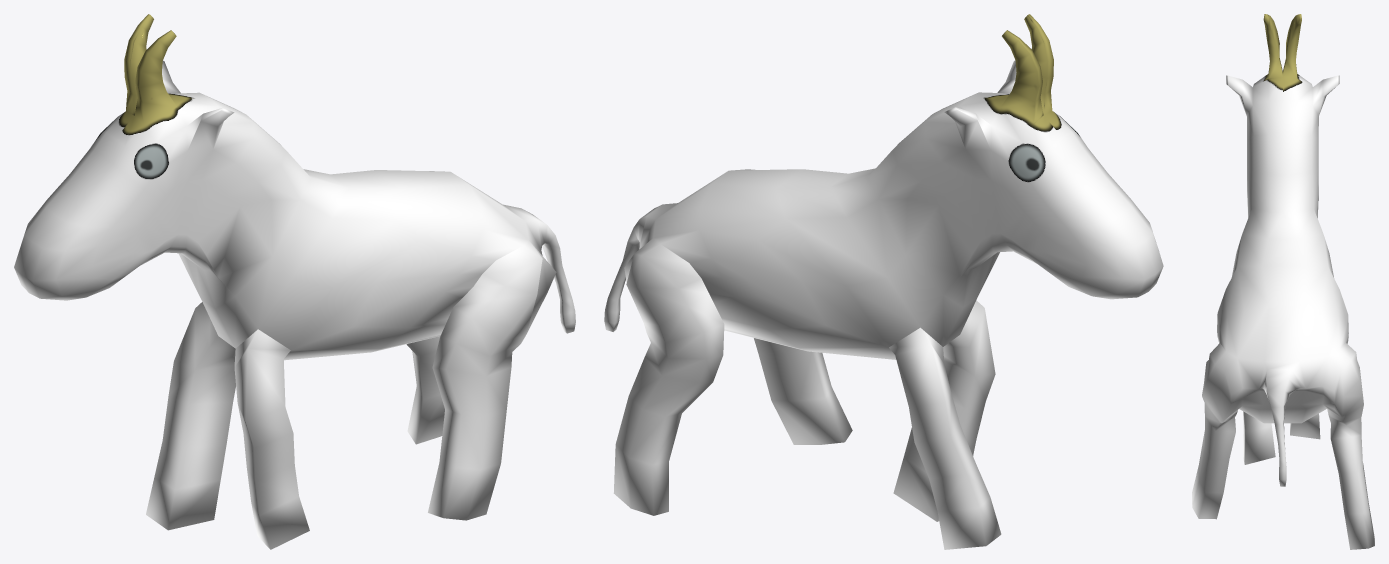
Rendered from goatAnim_000008.obj.
The picture shows the model from 3 angles, left to right: view 1: azimuth 30°, elevation 25°; view 2: azimuth 150°, elevation 25°; view 3: azimuth 270°, elevation 25°; orthographic projection. The views are drawn at different scales.
Visible parts, largest first — view 1: Cube; view 2: Cube; view 3: Cube.
Boxes of the visible parts, x1,y1,x2,y2 form: Cube: (14, 14, 575, 549); Cube: (604, 14, 1163, 549); Cube: (1192, 14, 1374, 549).
Bounding box in the file's own units: 1.31 × 1.2 × 0.4842.
